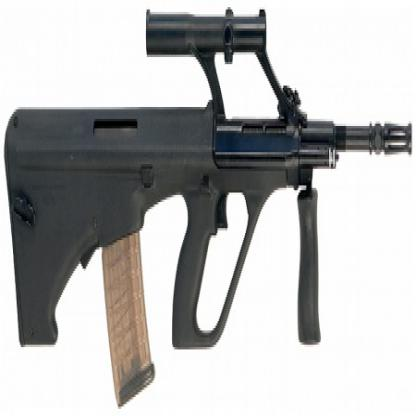Guns: (3, 5, 412, 406)
